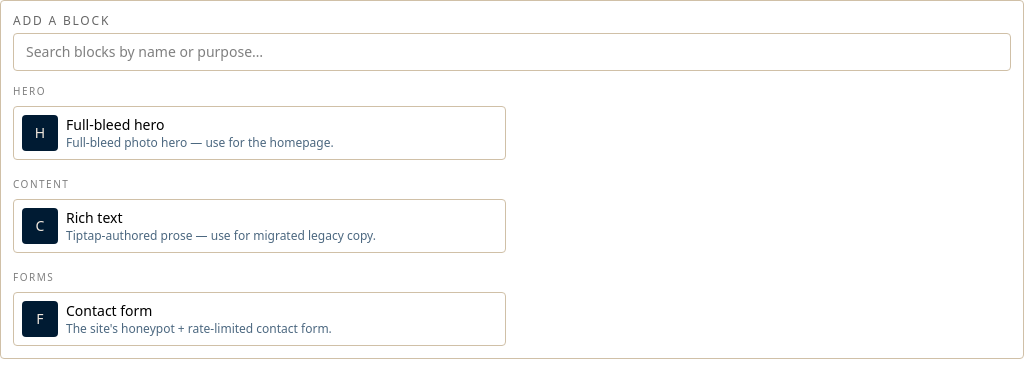
Test: BlockPalettePicker › filters by search across label, description, and category
The image size is (1024, 376).
In the search field with placeholder "Search blocks by name or purpose…": x=512, y=52 [13,33,1011,71], type "honeypot"
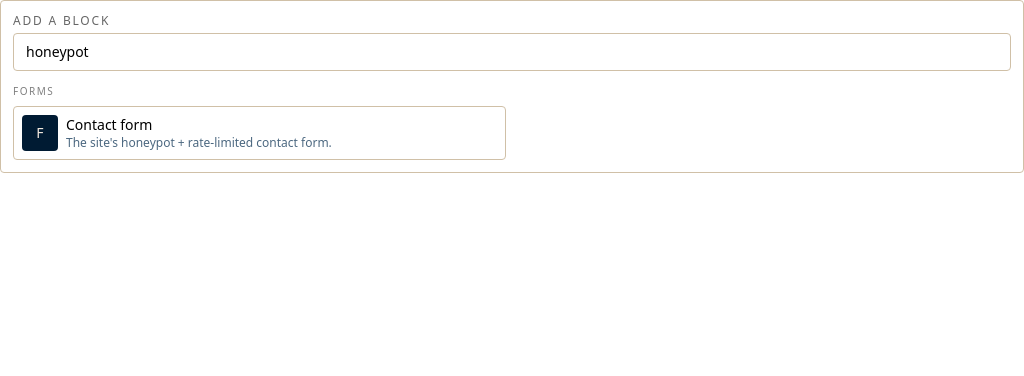
Check: the text "Contact form" is shown, box [66,115,152,134]
Check: the button "Rich text" is gone
Check: the button "Full-bleed hero" is gone
